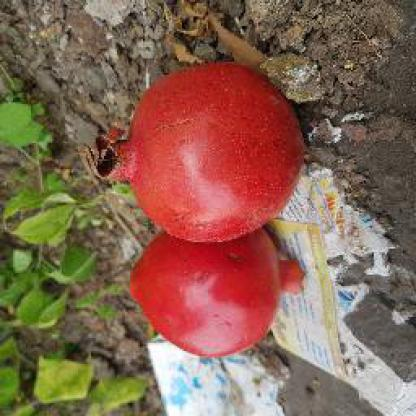pomegranate: (93, 65, 306, 242), (129, 237, 304, 351)
